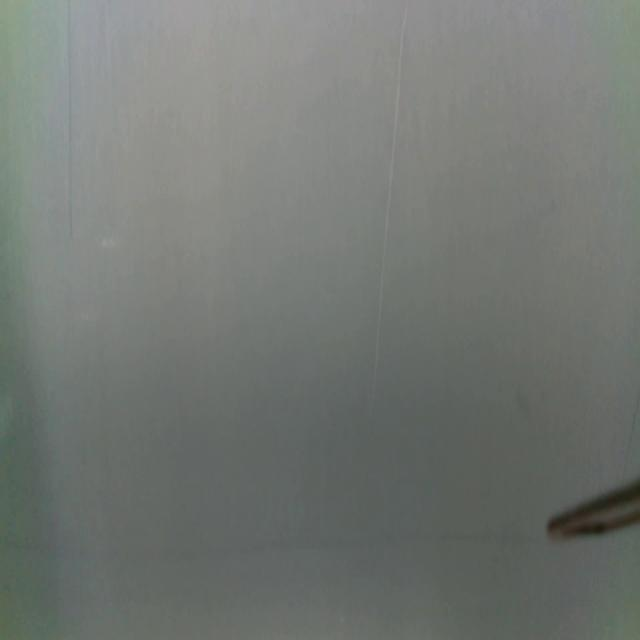crease: (371, 0, 410, 417), (63, 0, 77, 241)
